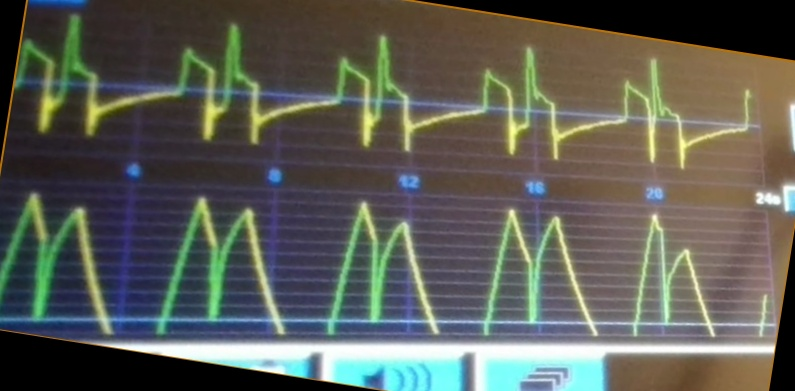Double_Triggering Flow: (23, 11, 716, 171)
Double_Triggering Volume: (3, 191, 723, 342)
